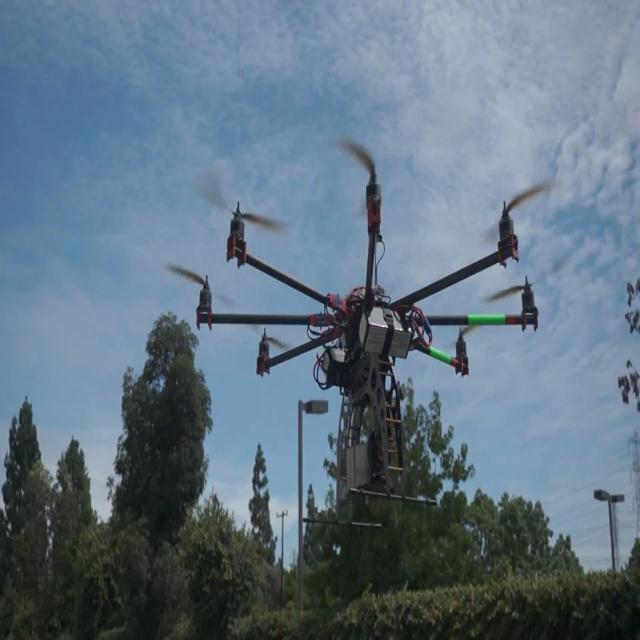drone: (201, 168, 528, 492)
